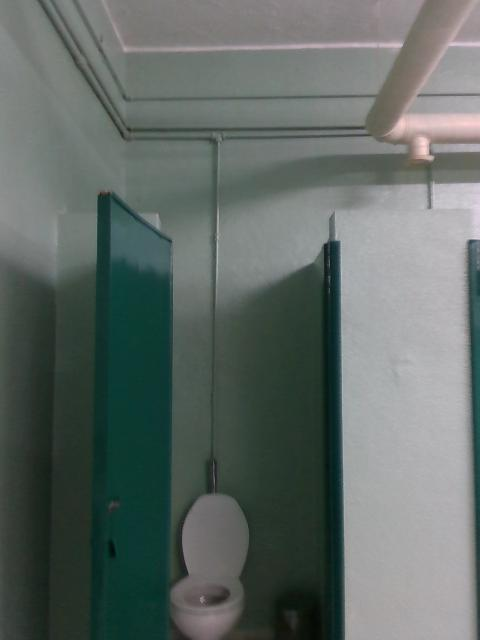open_door: (158, 210, 345, 638)
